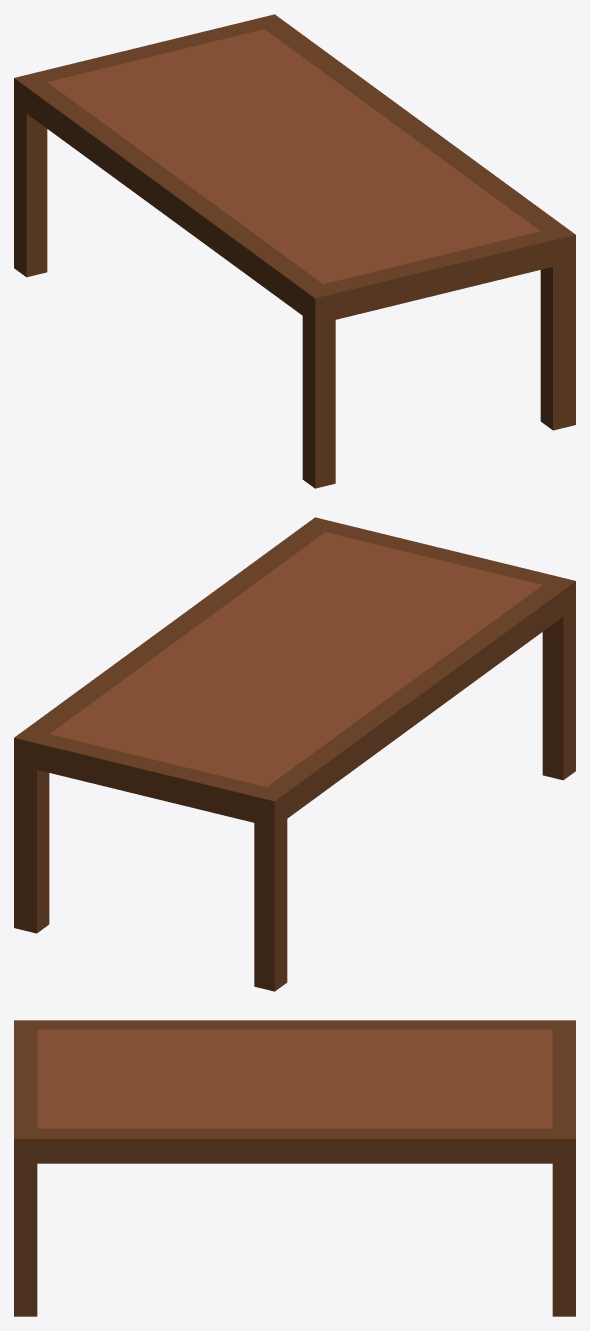
Rendered from tabel-1.fbx.
3 renders of one model, top to bottom at view 1: azimuth 30°, elevation 25°; view 2: azimuth 150°, elevation 25°; view 3: azimuth 270°, elevation 25°, orthographic. The views are drawn at different scales.
Parts seen in each view (by area): view 1: Cube; view 2: Cube; view 3: Cube.
Part boxes in pixels (x1=…): Cube: x1=14, y1=14, x2=575, y2=488; Cube: x1=14, y1=517, x2=575, y2=991; Cube: x1=14, y1=1020, x2=575, y2=1316.
Bounding box in the file's own units: 200 × 139 × 400.
